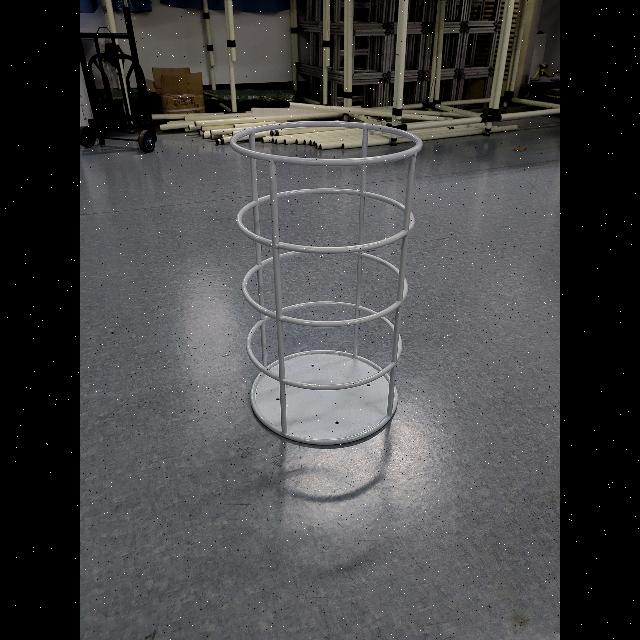S: (228, 118, 428, 450)
